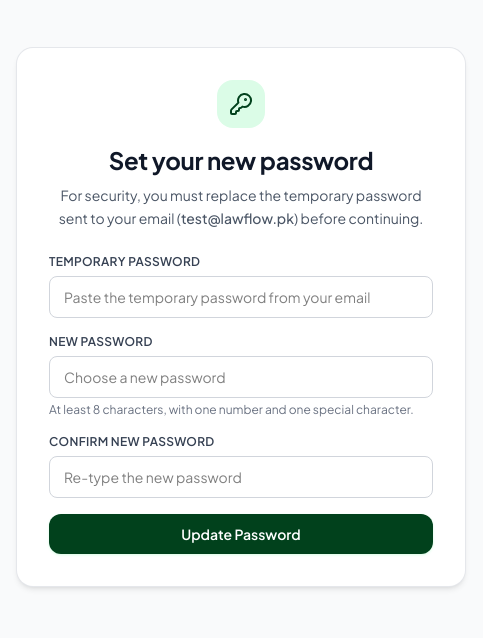
it: ChangeTempPassword › requires all three fields
Step 1. Click the button "Update Password" → (241, 534), box x1=49 y1=514 x2=433 y2=554
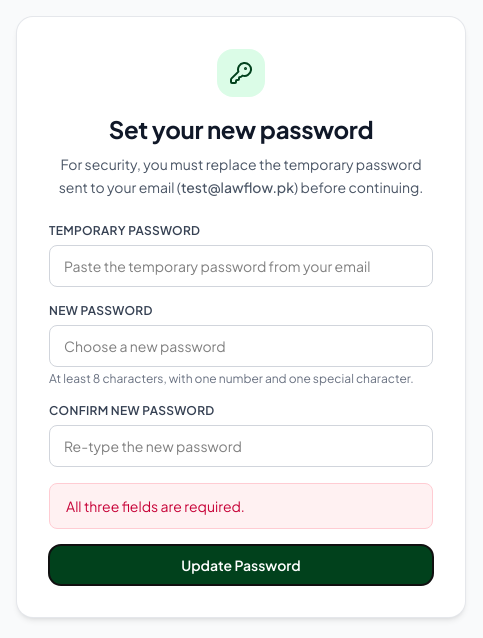
Check: the text "All three fields are required." is shown, box x1=49 y1=483 x2=433 y2=529
